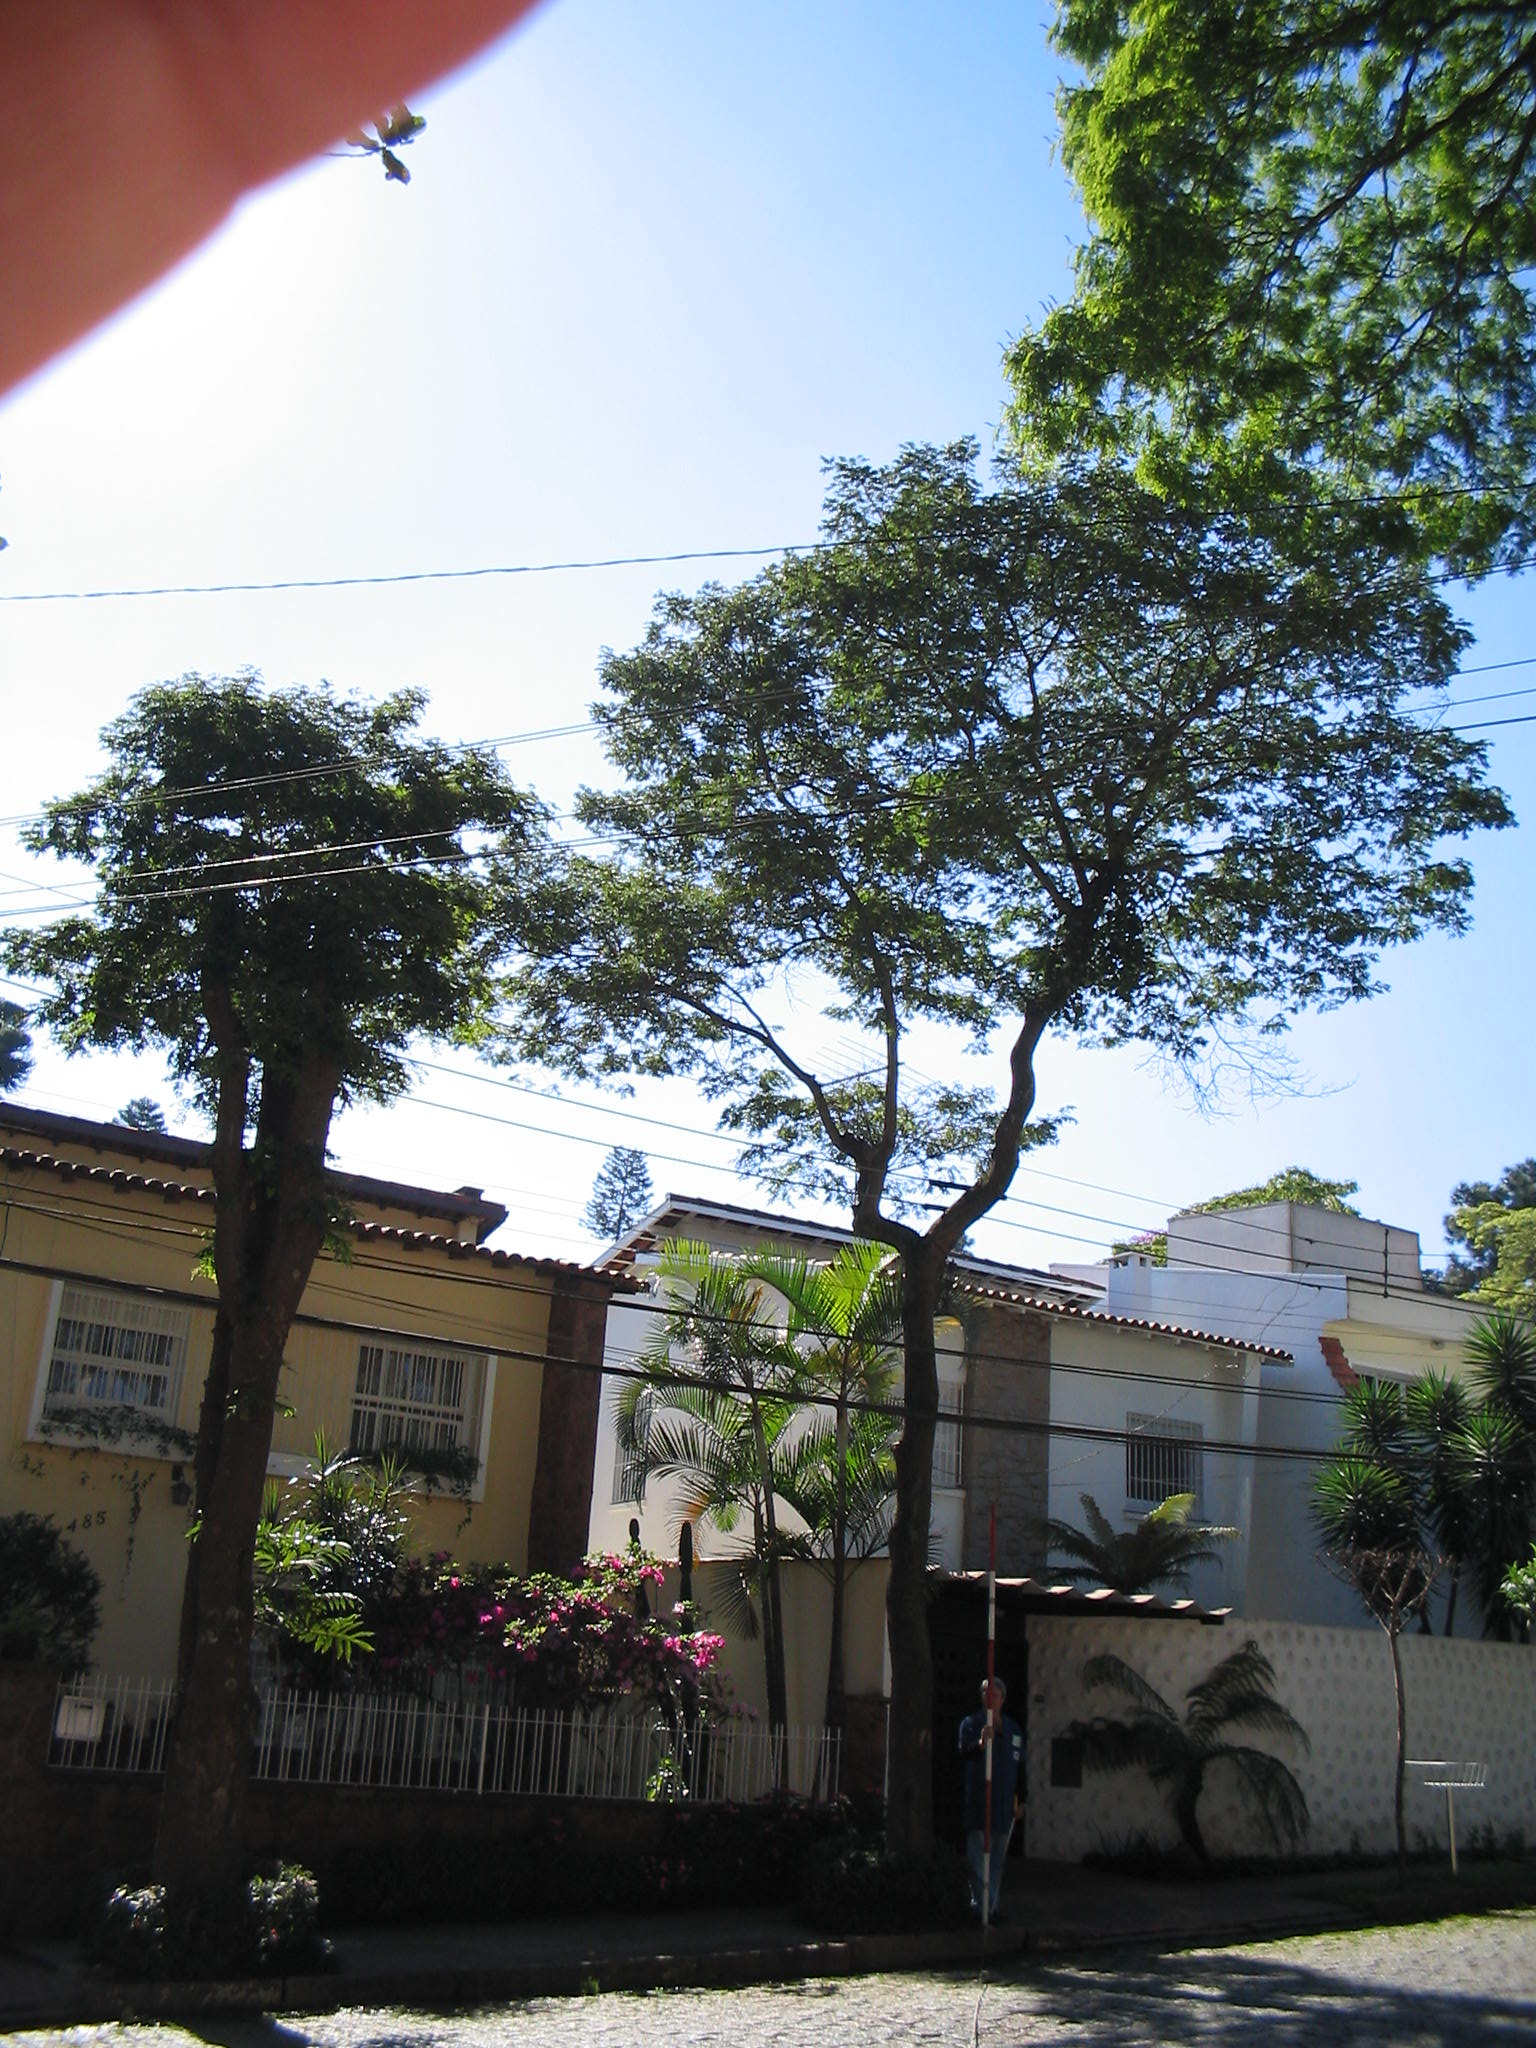crown: (482, 455, 1510, 1155), (10, 682, 557, 1142)
stem: (828, 1247, 973, 1903), (106, 1605, 307, 1971)
stick: (966, 1503, 1016, 1929)
tree: (478, 447, 1517, 1903), (6, 674, 553, 1971)
